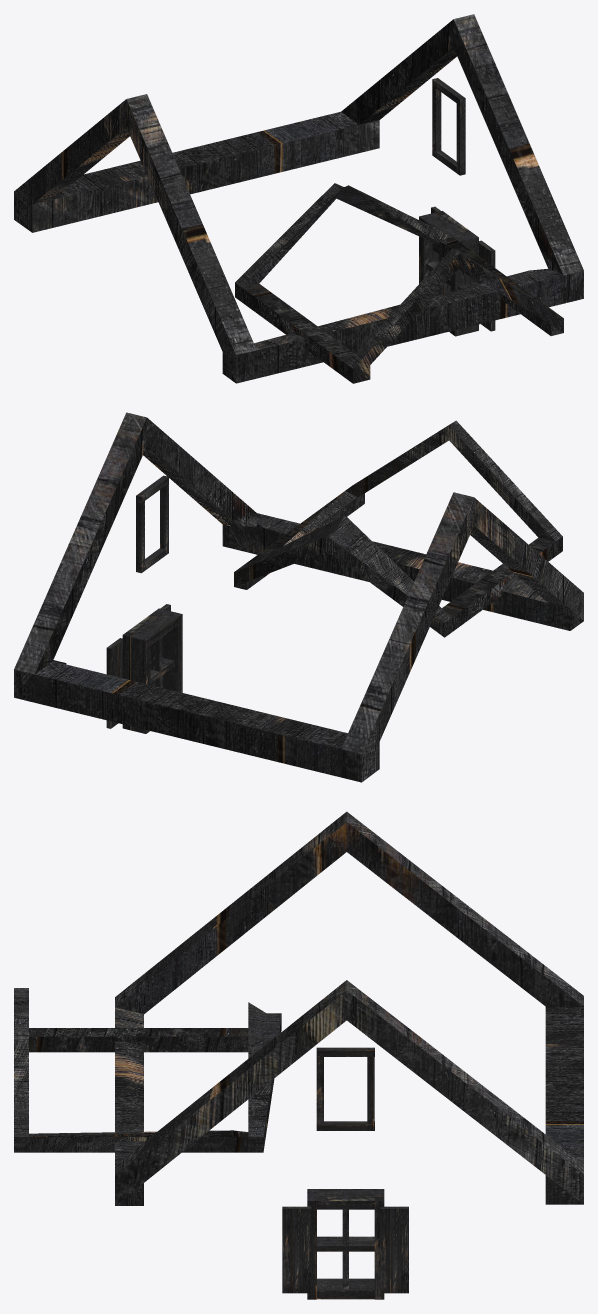
File: windows.obj
3 renders of one model, top to bottom at view 1: azimuth 30°, elevation 25°; view 2: azimuth 150°, elevation 25°; view 3: azimuth 270°, elevation 25°, orthographic. The views are drawn at different scales.
Parts seen in each view (by area): view 1: Cube.020_Cube.027; view 2: Cube.020_Cube.027; view 3: Cube.020_Cube.027.
Boxes of the visible parts, x1,y1,x2,y2 form: Cube.020_Cube.027: [14, 14, 583, 383]; Cube.020_Cube.027: [14, 412, 583, 782]; Cube.020_Cube.027: [14, 811, 583, 1299].
Bounding box in the file's own units: 30.71 × 25.28 × 41.31.
